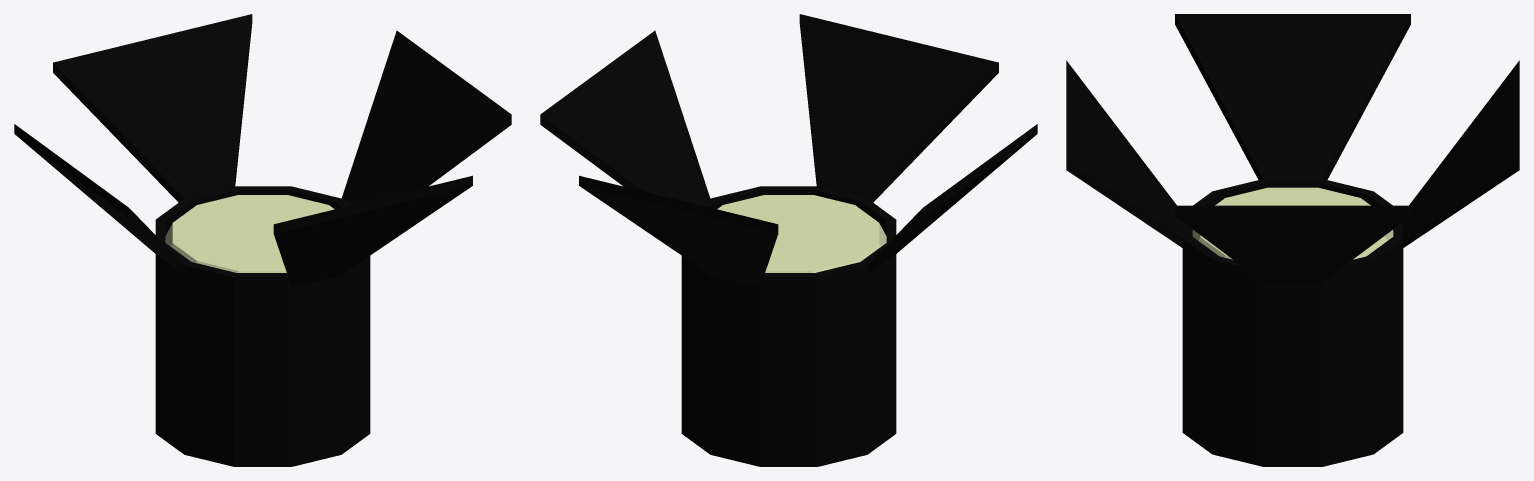
The model's file is Lamp.fbx.
3 renders of one model, left to right at view 1: azimuth 30°, elevation 25°; view 2: azimuth 150°, elevation 25°; view 3: azimuth 270°, elevation 25°, orthographic. The views are drawn at different scales.
Parts seen in each view (by area): view 1: Circle; view 2: Circle; view 3: Circle.
Part boxes in pixels (x1,y1,x2,y2): Circle: (14,14,511,466); Circle: (540,14,1037,466); Circle: (1066,14,1519,466).
Size of the model in its own units: 398 by 300 by 398.
